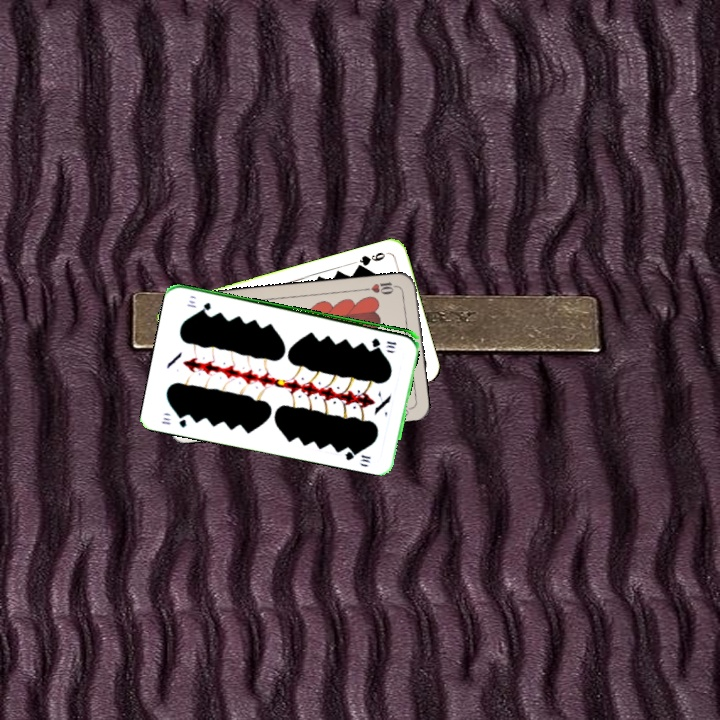G10: (158, 410, 189, 430), (367, 334, 399, 348)
G9: (353, 248, 391, 271)
H10: (361, 278, 401, 297)
